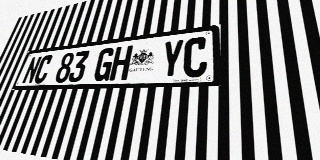3: (67, 50, 90, 82)
8: (53, 52, 76, 83)
C: (182, 36, 208, 78), (32, 55, 54, 84)
G: (92, 47, 116, 81)
H: (109, 45, 133, 81)
N: (21, 56, 42, 84)
Y: (159, 39, 184, 79)
